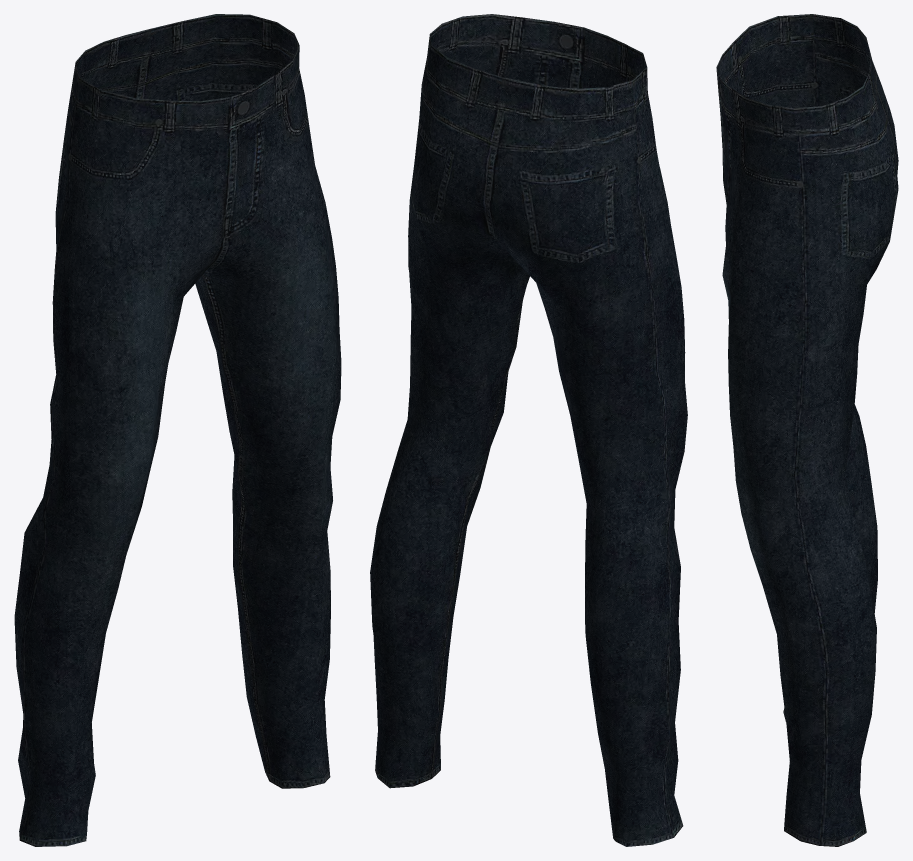
File: MalePants2-3.glb
3 renders of one model, left to right at view 1: azimuth 30°, elevation 25°; view 2: azimuth 150°, elevation 25°; view 3: azimuth 270°, elevation 25°, orthographic. The views are drawn at different scales.
Visible parts, largest first — view 1: Pants2.001; view 2: Pants2.001; view 3: Pants2.001.
Boxes of the visible parts, left/top/right/bottom form: Pants2.001: left=14, top=14, right=341, bottom=846; Pants2.001: left=370, top=14, right=687, bottom=846; Pants2.001: left=716, top=14, right=898, bottom=846.
Size of the model in its own units: 0.4392 by 1.06 by 0.2419.
Materials: 1 (1 with a texture image).
